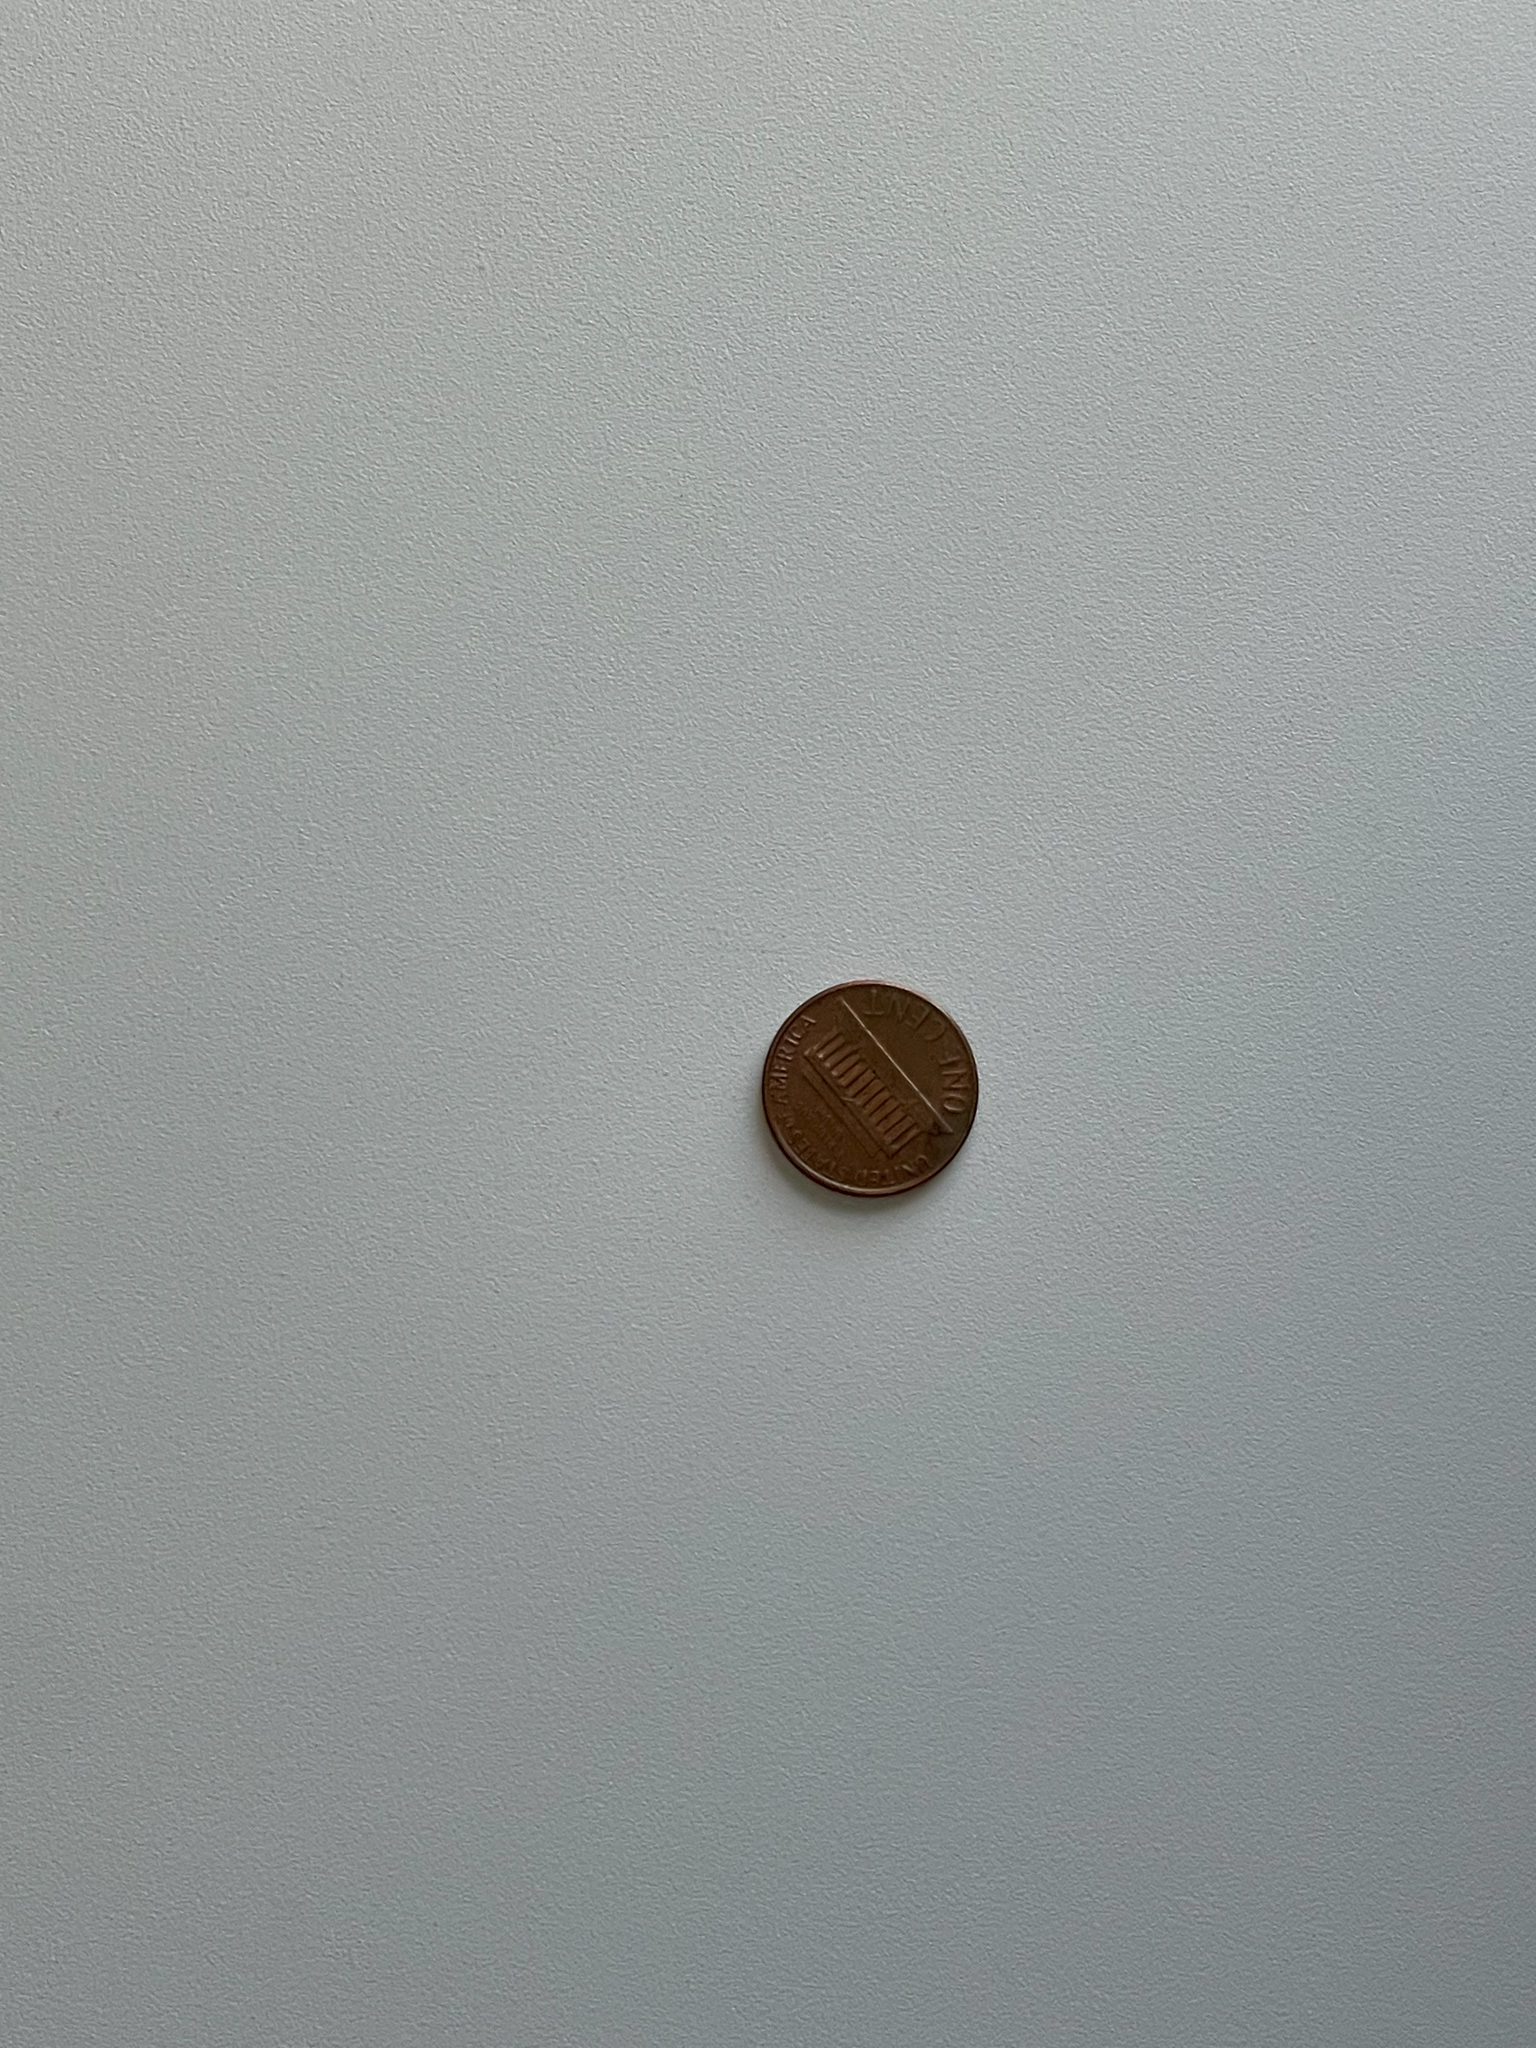penny: (757, 972, 987, 1206)
